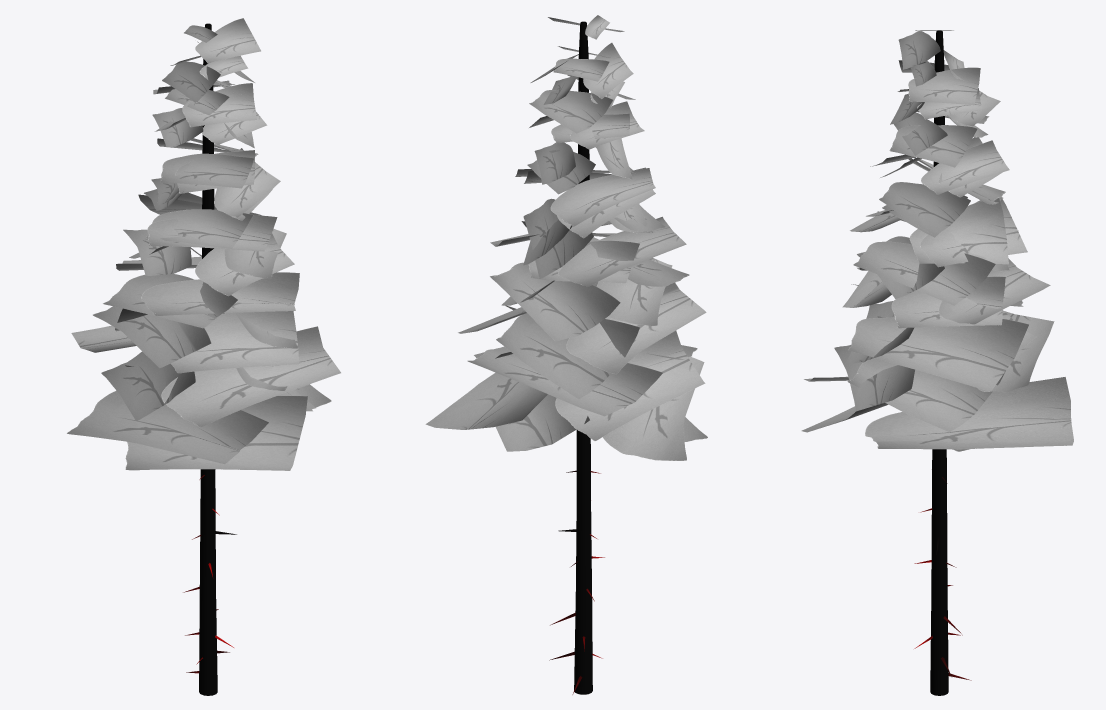
File: M_Pine_5_2.fbx
3 views of the same model, side by side, from view 1: azimuth 30°, elevation 25°; view 2: azimuth 150°, elevation 25°; view 3: azimuth 270°, elevation 25° (orthographic).
Visible parts, largest first — view 1: Mobile_Pine_2; view 2: Mobile_Pine_2; view 3: Mobile_Pine_2.
Part boxes in pixels (<box>): Mobile_Pine_2: <box>67,18,340,695</box>; Mobile_Pine_2: <box>425,15,707,694</box>; Mobile_Pine_2: <box>801,30,1073,695</box>.
Size of the model in its own units: 1809 by 4110 by 1774.
